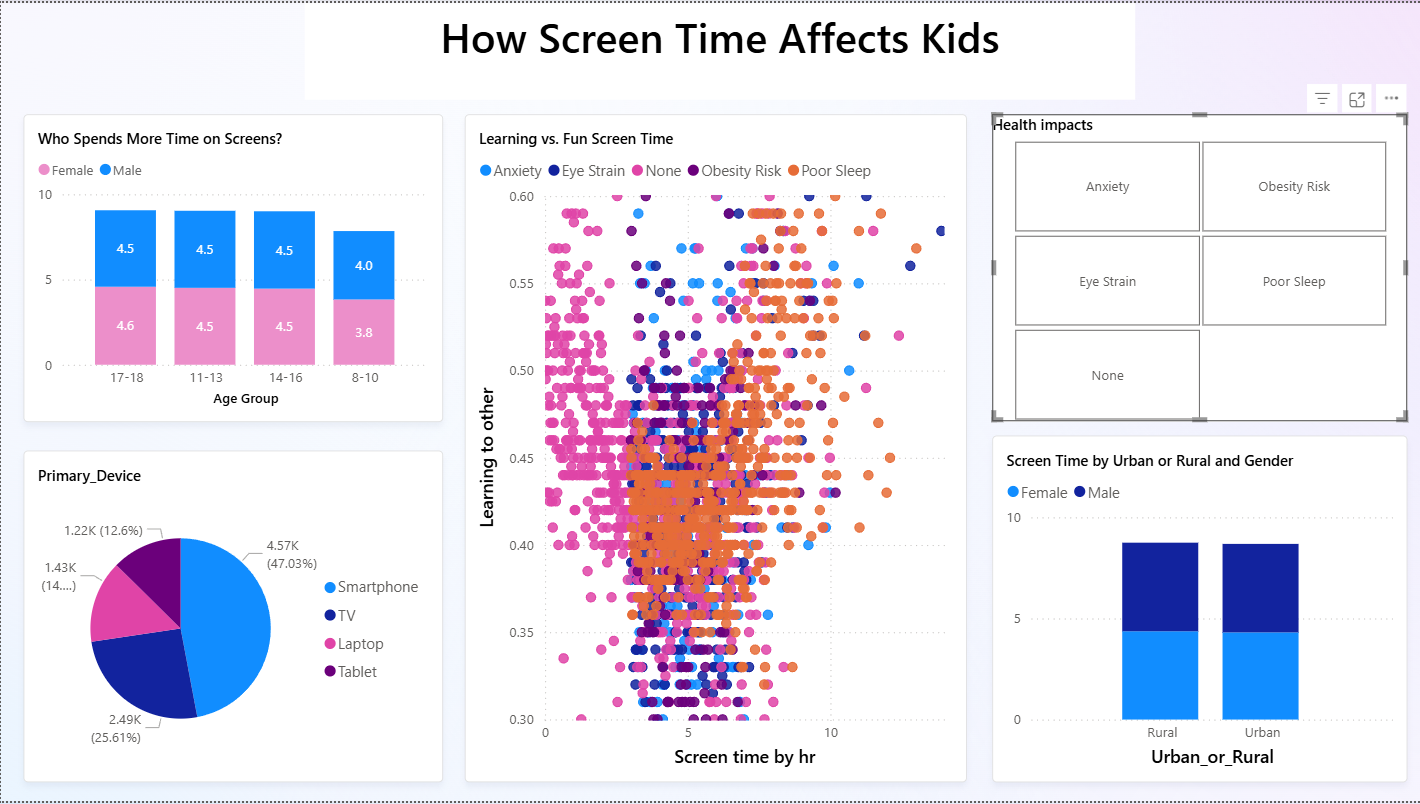

This screenshot's page, from the dashboard's own definition file:
{"tool":"powerbi","page":{"name":"Page 1","canvas":[1280,720],"ordinal":0},"visuals":[{"type":"columnChart","title":"Who Spends More Time on Screens?","fields":{"Category":["Indian_Kids_Screen_Time.Age Group"],"Y":["Indian_Kids_Screen_Time.Avg Screen Time"],"Series":["Indian_Kids_Screen_Time.Gender"]},"box":[20.3,100.3,378.7,277.3],"z":0},{"type":"pieChart","title":"Primary_Device","fields":{"Category":["Indian_Kids_Screen_Time.Primary_Device"],"Y":["CountNonNull(Indian_Kids_Screen_Time.Primary_Device)"]},"box":[20.6,403.4,378.7,299.1],"z":1000},{"type":"scatterChart","title":"Learning vs. Fun Screen Time","fields":{"X":["Indian_Kids_Screen_Time.Avg_Daily_Screen_Time_hr"],"Y":["Median(Indian_Kids_Screen_Time.Educational_to_Recreational_Ratio)"],"Series":["Indian_Kids_Screen_Time.Health_Impacts.1"]},"box":[418.5,100.2,452.8,602.4],"z":2000},{"type":"columnChart","title":"Screen Time by Urban or Rural and Gender","fields":{"Category":["Indian_Kids_Screen_Time.Urban_or_Rural"],"Y":["Indian_Kids_Screen_Time.Avg Screen Time"],"Series":["Indian_Kids_Screen_Time.Gender"]},"box":[893.3,389.7,374.6,312.9],"z":3000},{"type":"textbox","box":[274,0,748.9,86.8],"z":4000},{"type":"slicer","title":"Health impacts","fields":{"Values":["Indian_Kids_Screen_Time.Health_Impacts.1"]},"box":[893.6,100.4,374.5,277.4],"z":5000}]}

Visuals, with their boxes on the page's 1280x720 design canvas (x1, y1, x2, y2). These are canvas units, not pixel positions in the 1420x804 screenshot, which may show the page scaled, cropped or inside an application window:
"Who Spends More Time on Screens?" columnChart: 20:100:399:378
"Primary_Device" pieChart: 21:403:399:702
"Learning vs. Fun Screen Time" scatterChart: 418:100:871:703
"Screen Time by Urban or Rural and Gender" columnChart: 893:390:1268:703
textbox: 274:0:1023:87
"Health impacts" slicer: 894:100:1268:378
